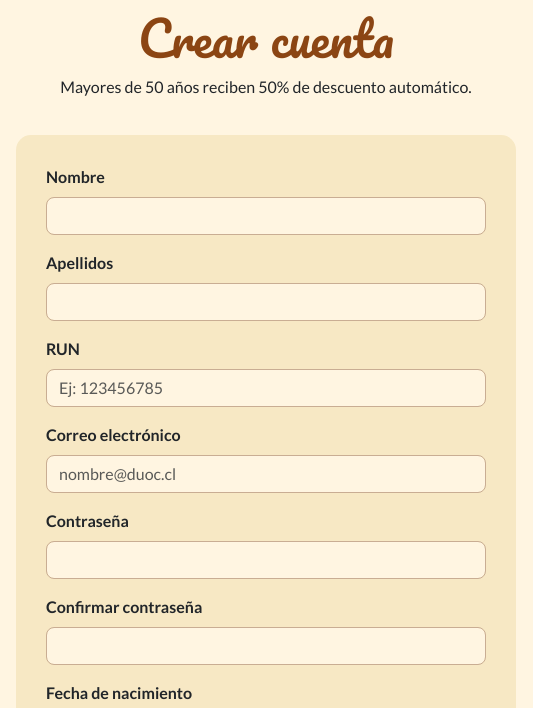
Test: Página Registro › valida el RUN mientras se escribe
Step 1. Type "123456784" into the field labelled "RUN" → [266, 388], box [46,369,486,407]
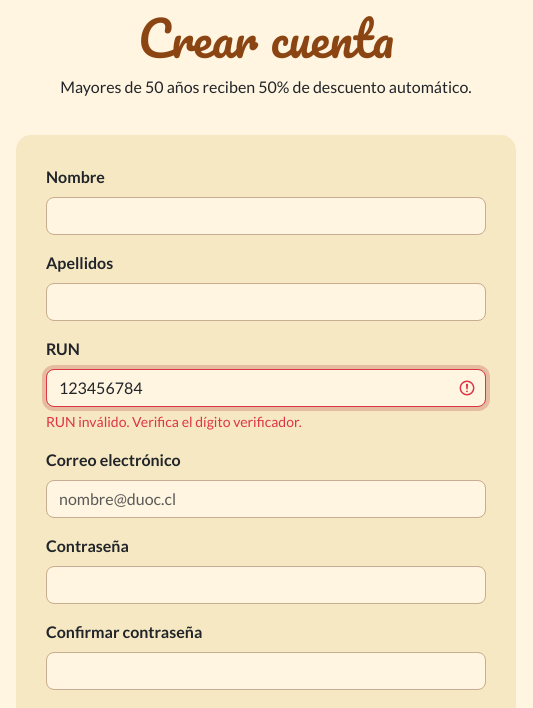
Result: the text "RUN inválido. Verifica el dígito verificador." is shown at [46,413,302,430]
